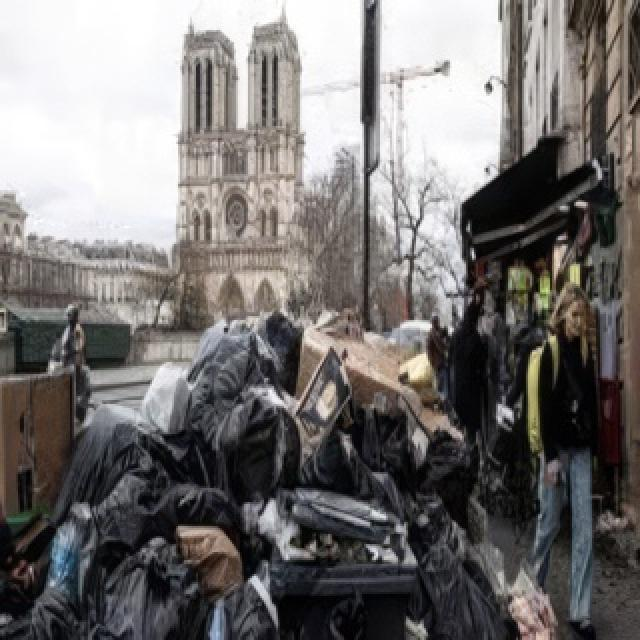Trashbag: (58, 399, 198, 508), (161, 318, 301, 404), (208, 383, 319, 484), (408, 530, 506, 640), (84, 544, 196, 640), (417, 423, 481, 522), (369, 396, 426, 483)
